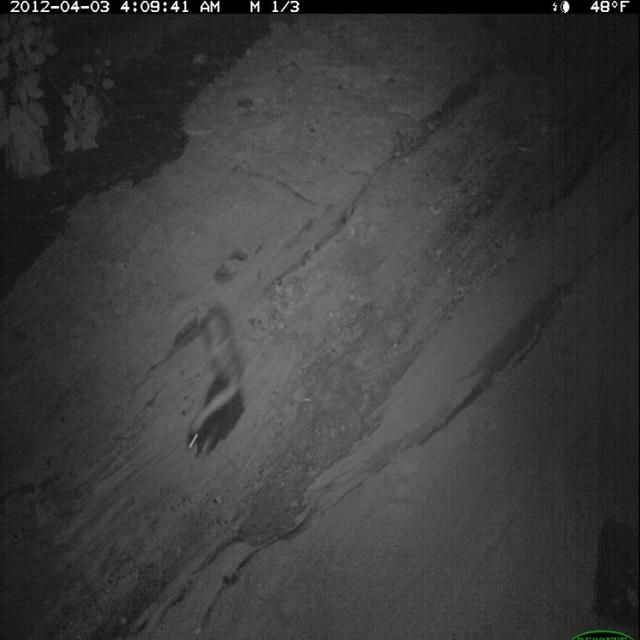skunk: (183, 304, 251, 464)
